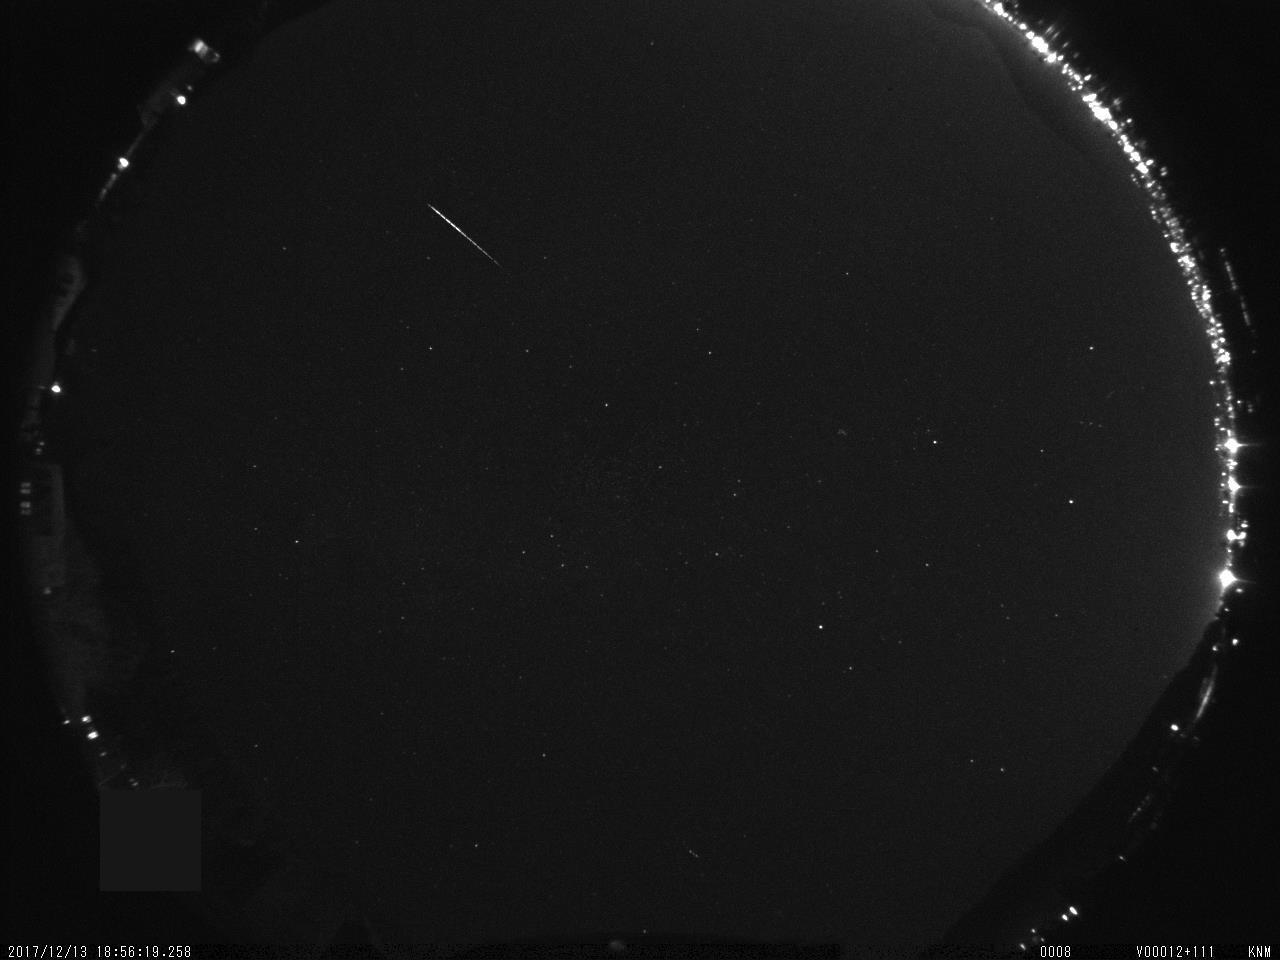Meteor: (422, 197, 507, 271)
